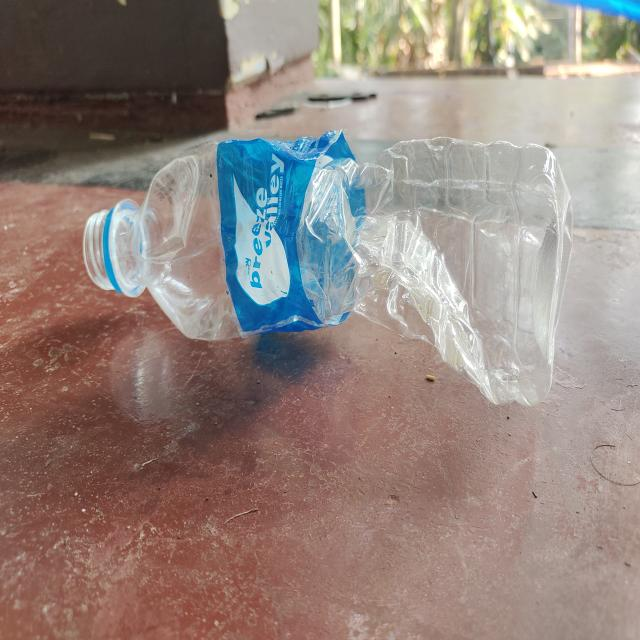plastic: (80, 128, 576, 409)
